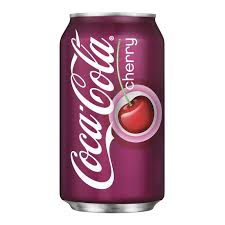can: (55, 10, 170, 216)
